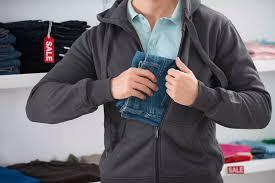shoplifting: (25, 0, 275, 183)
